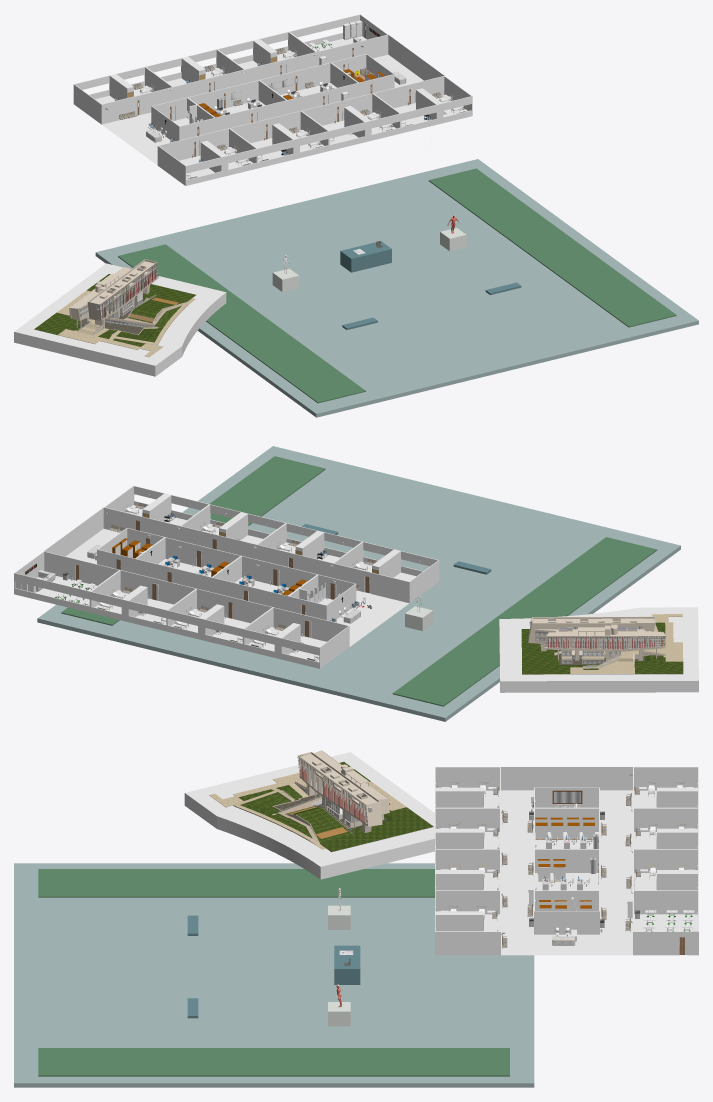
Rendered from ENV_PREP_Campus.glb.
The picture shows the model from 3 angles, top to bottom: view 1: azimuth 30°, elevation 25°; view 2: azimuth 150°, elevation 25°; view 3: azimuth 270°, elevation 25°; orthographic projection. The views are drawn at different scales.
Parts seen in each view (by area): view 1: MOD_Campus_Ground, SUP_hospital_01, SUP_facultad_de_enfermeria_unal_colombia, MOD_Campus_Garden.001, MOD_Campus_Garden, PROP_Learning_Desk; view 2: MOD_Campus_Ground, SUP_hospital_01, SUP_facultad_de_enfermeria_unal_colombia, MOD_Campus_Garden, MOD_Campus_Garden.001, PROP_Anatomy_Pedestal; view 3: MOD_Campus_Ground, SUP_hospital_01, SUP_facultad_de_enfermeria_unal_colombia, MOD_Campus_Garden.001, MOD_Campus_Garden, PROP_Learning_Desk, PROP_Anatomy_Pedestal, PROP_Anatomy_Pedestal.001.
Part boxes in pixels (box(x1,y1,x2,y2)): MOD_Campus_Ground: box(95, 159, 698, 417); SUP_hospital_01: box(73, 14, 472, 185); SUP_facultad_de_enfermeria_unal_colombia: box(14, 259, 226, 376); MOD_Campus_Garden.001: box(428, 168, 676, 327); MOD_Campus_Garden: box(118, 244, 365, 403); PROP_Learning_Desk: box(340, 241, 391, 272); MOD_Campus_Ground: box(37, 446, 680, 721); SUP_hospital_01: box(14, 485, 439, 668); SUP_facultad_de_enfermeria_unal_colombia: box(499, 607, 698, 692); MOD_Campus_Garden: box(392, 537, 657, 706); MOD_Campus_Garden.001: box(61, 456, 325, 625); PROP_Anatomy_Pedestal: box(405, 606, 432, 631); MOD_Campus_Ground: box(14, 863, 534, 1087); SUP_hospital_01: box(435, 767, 698, 955); SUP_facultad_de_enfermeria_unal_colombia: box(184, 750, 434, 879); MOD_Campus_Garden.001: box(38, 1048, 509, 1076); MOD_Campus_Garden: box(38, 869, 434, 897); PROP_Learning_Desk: box(334, 945, 360, 984); PROP_Anatomy_Pedestal: box(328, 905, 350, 929); PROP_Anatomy_Pedestal.001: box(328, 1002, 350, 1026).
Bounding box in the file's own units: 45.36 × 8.71 × 42.12.
118 materials, 68 textured.
